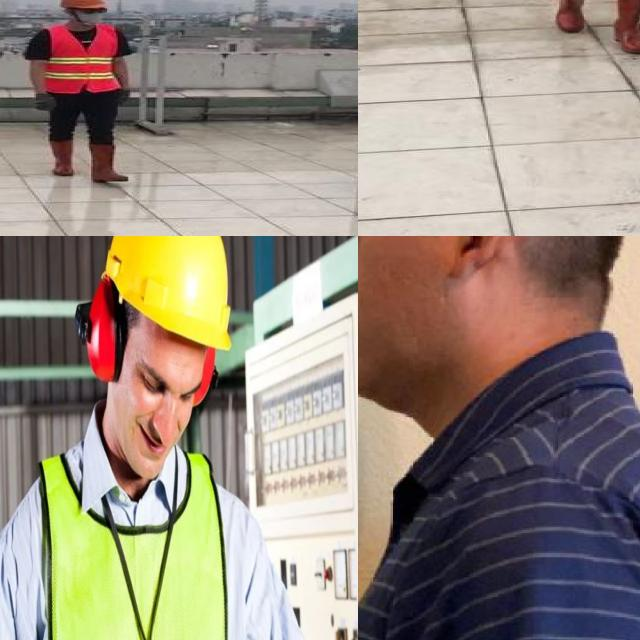Ear-protection: (71, 236, 238, 501)
No_Ear-Protection: (447, 236, 503, 280)
No_Glasses: (132, 344, 198, 423)
boots: (88, 142, 128, 182), (612, 0, 640, 54), (550, 0, 589, 34), (46, 138, 76, 175)
face_mask: (76, 6, 108, 24)
glasses: (80, 6, 109, 16)
hand_glove: (36, 94, 57, 112), (118, 90, 130, 108)
head_helmet: (56, 0, 109, 9)
person: (22, 0, 141, 187)
vest: (46, 25, 120, 93)
